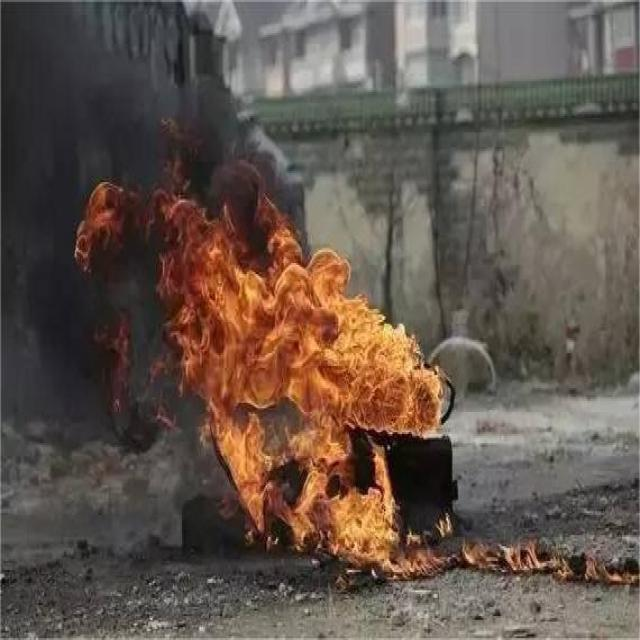Fire: (75, 178, 449, 576)
Smoke: (1, 2, 162, 175)
